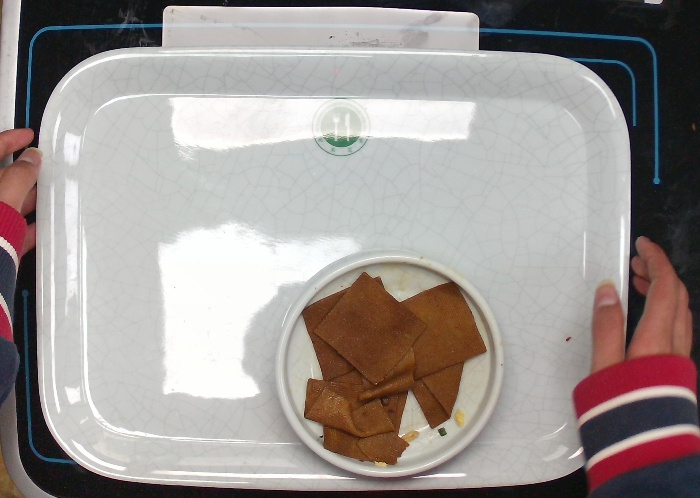JYsf-Xiao_Yuan_Pan: (270, 249, 505, 479)
